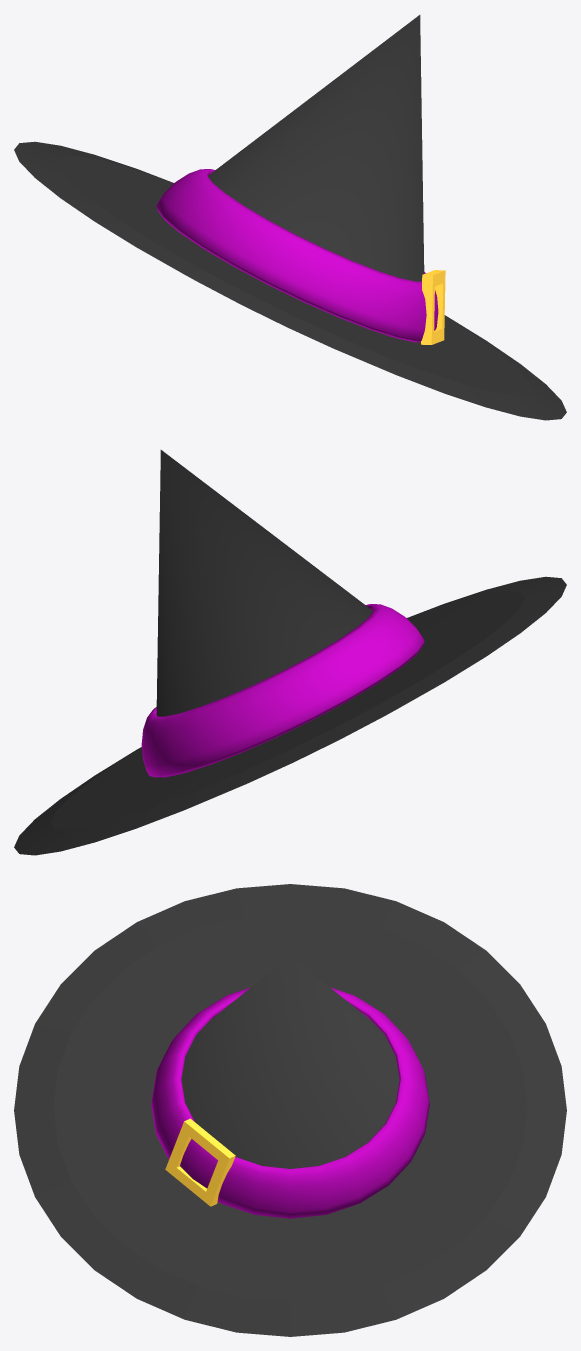
Rendered from Hat_Witch.fbx.
3 renders of one model, top to bottom at view 1: azimuth 30°, elevation 25°; view 2: azimuth 150°, elevation 25°; view 3: azimuth 270°, elevation 25°, orthographic. The views are drawn at different scales.
Visible parts, largest first — view 1: Witch_Hat, Torus.000, Cube.001; view 2: Witch_Hat, Torus.000; view 3: Witch_Hat, Torus.000, Cube.001.
Boxes of the visible parts, x1=… form: Witch_Hat: x1=14, y1=15, x2=566, y2=420; Torus.000: x1=156, y1=169, x2=438, y2=342; Cube.001: x1=421, y1=270, x2=445, y2=344; Witch_Hat: x1=14, y1=450, x2=566, y2=855; Torus.000: x1=141, y1=604, x2=424, y2=777; Witch_Hat: x1=14, y1=884, x2=566, y2=1336; Torus.000: x1=151, y1=987, x2=429, y2=1218; Cube.001: x1=165, y1=1118, x2=235, y2=1206.
Size of the model in its own units: 273 by 212 by 315.
